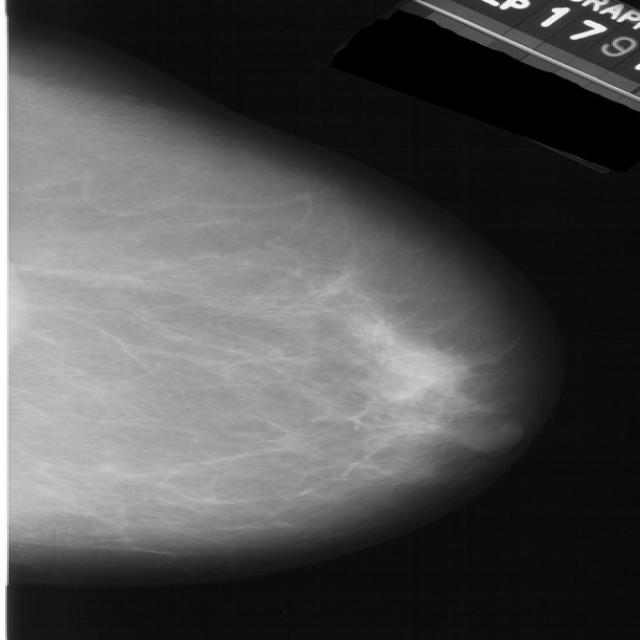tumour: (387, 341, 462, 392)
